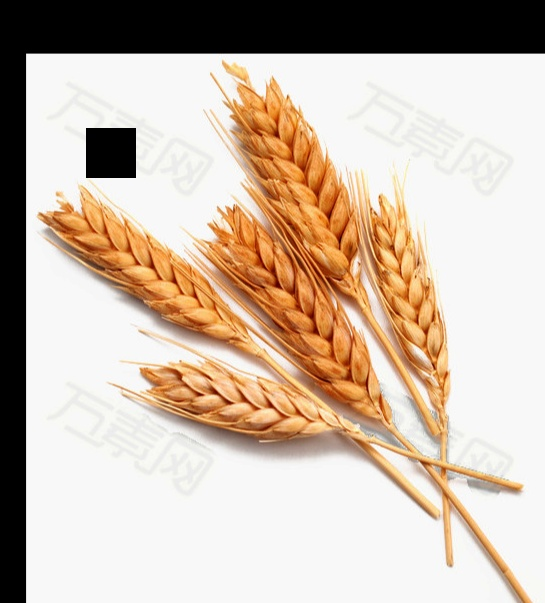wheat: (219, 68, 404, 371), (47, 181, 297, 381), (224, 214, 412, 447), (347, 182, 468, 446), (86, 346, 369, 438)
